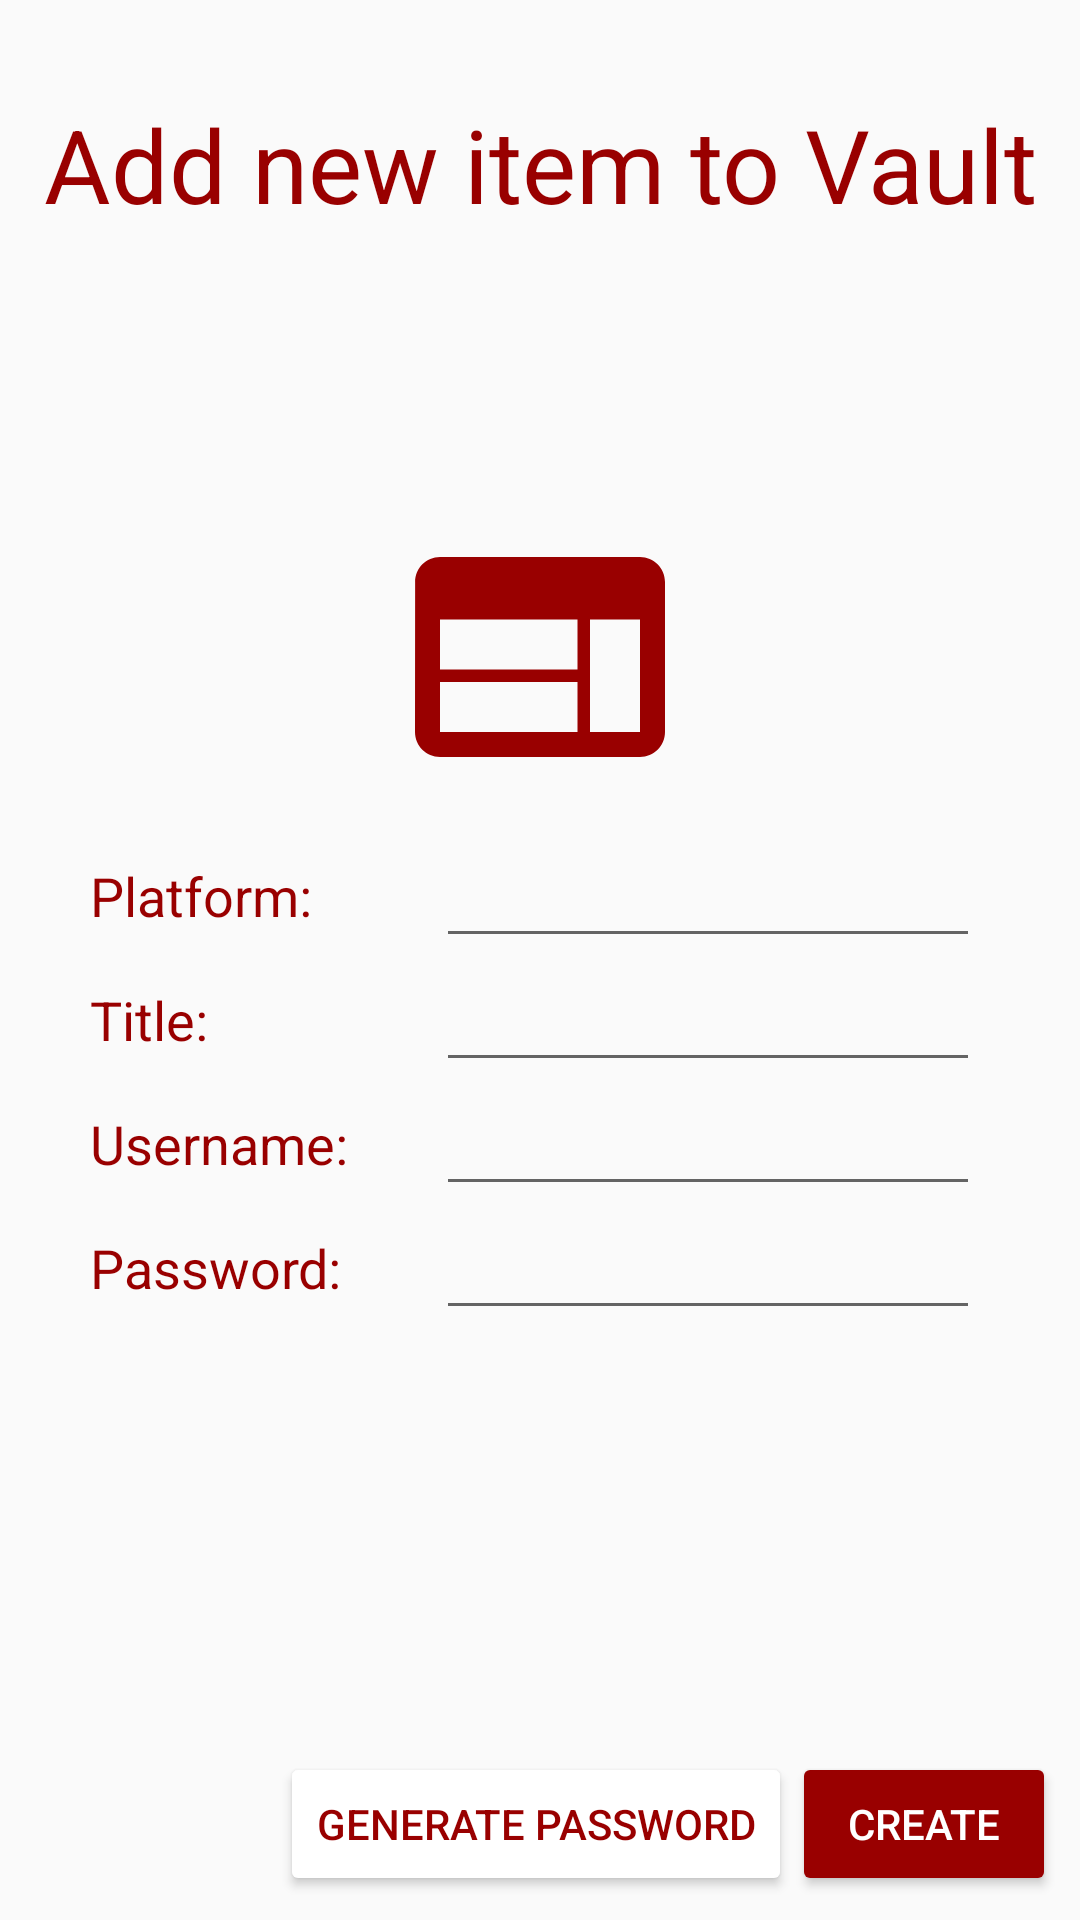

Icons on this 1080 × 1920 Android screen, each with the point to tap as point (x, y):
web: point (540, 657)
